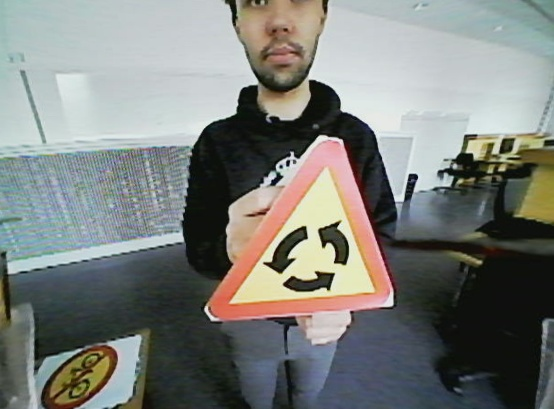roundabout_warning: (215, 135, 396, 322)
